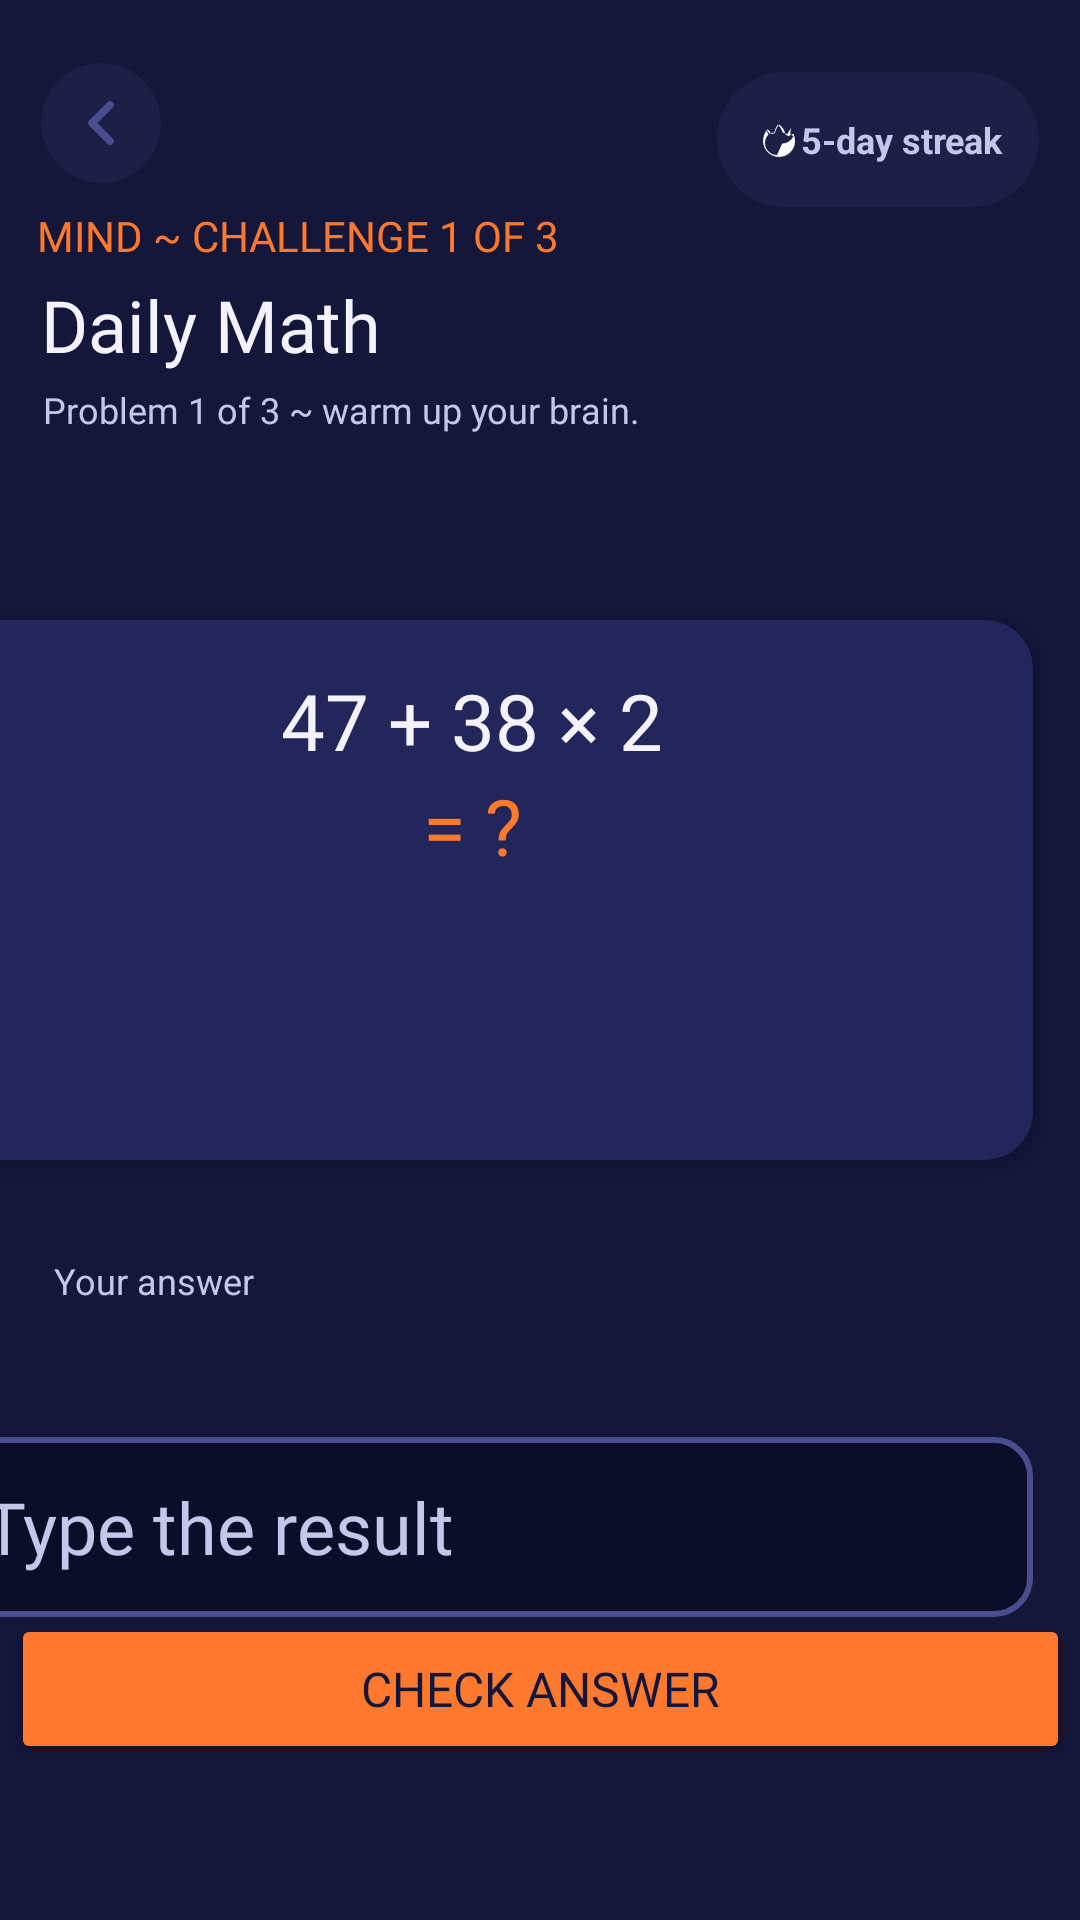

Screen size 1080px×1920px. Icon name, then its center in pixels as point (x, y):
chevron left: point (101, 123)
flame: point (779, 140)
